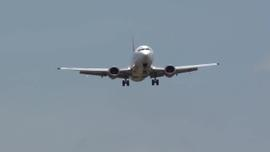aircraft: (55, 37, 219, 86)
